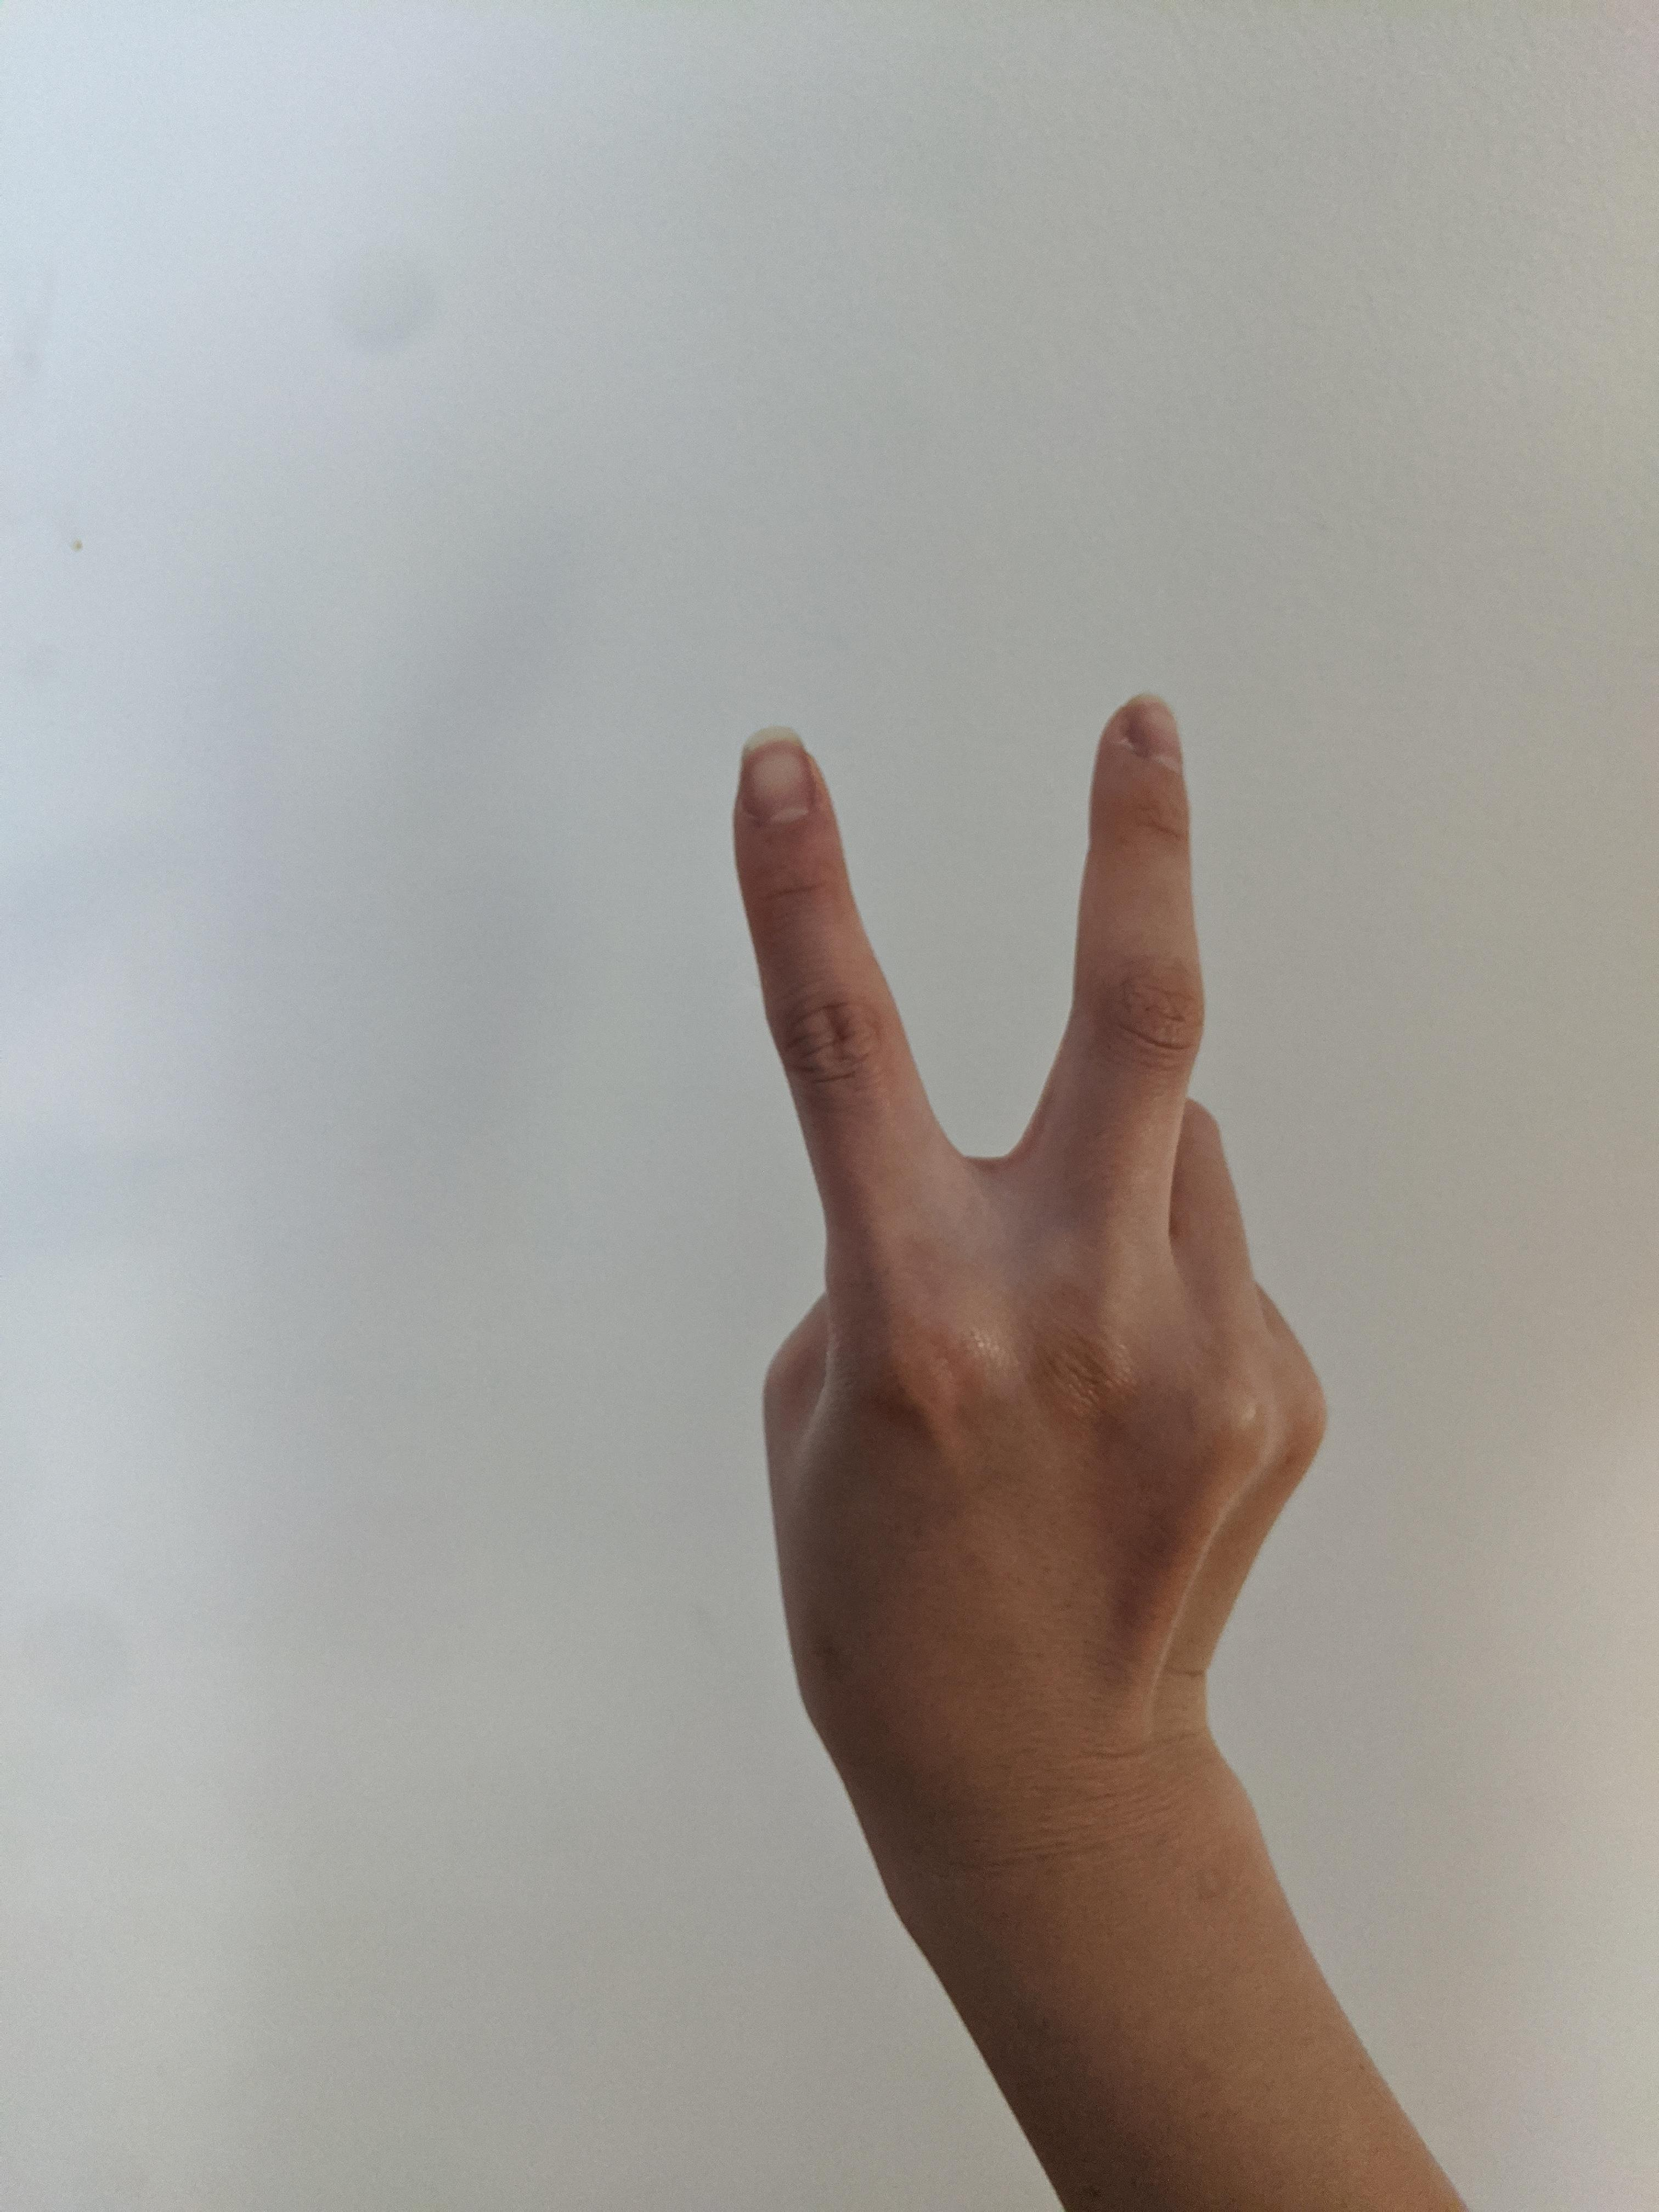V: (716, 681, 1347, 1820)
